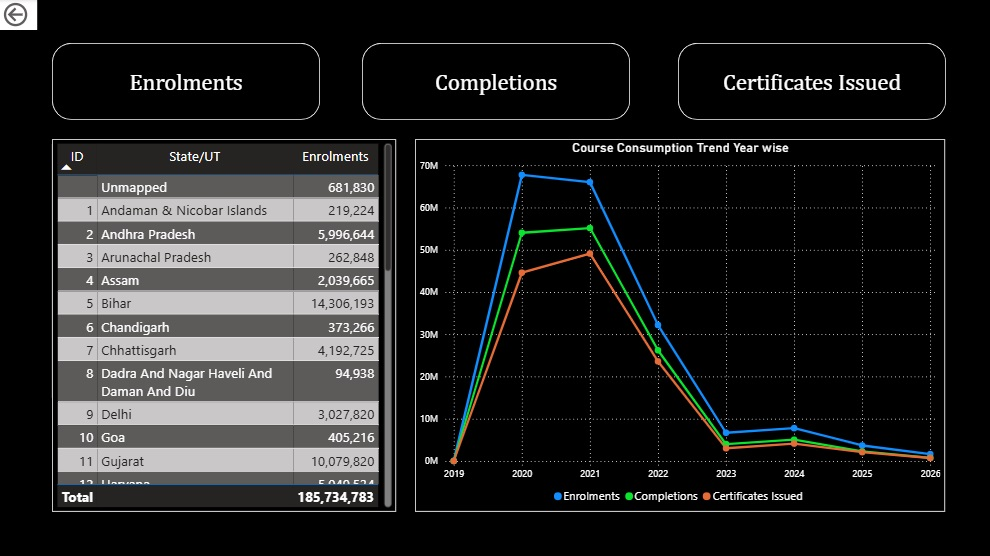

The dashboard page shown, as its layout file describes it:
{"tool":"powerbi","page":{"name":"Course Details","canvas":[1280,720],"ordinal":7},"visuals":[{"type":"lineChart","title":"Course Consumption Trend Year wise","fields":{"Category":["learning_trend.Year"],"Y":["Sum(learning_trend.Enrolments)","Sum(learning_trend.Completions)","Sum(learning_trend.Certificates Issued)"]},"box":[535.5,180.6,683.9,481.3],"z":0},{"type":"shape","box":[66.6,56.7,345.8,99.2],"z":2000},{"type":"shape","box":[467.7,56.7,345.8,99.2],"z":3000},{"type":"shape","box":[874.5,56.7,345.8,99.2],"z":4000},{"type":"tableEx","fields":{"Values":["state_usage_summary.ID","state_usage_summary.State/UT","Sum(state_usage_summary.Certificates Issued)"]},"box":[67,180.1,443.5,480.7],"z":6000},{"type":"actionButton","box":[0,0,47.6,40.2],"z":7000}]}

Visuals, with their boxes in screenshot pixels (x1, y1, x2, y2), scaled from the page's 1280x720 canvas onto the 990x556 screenshot:
"Course Consumption Trend Year wise" lineChart: bbox(414, 139, 943, 511)
shape: bbox(52, 44, 319, 120)
shape: bbox(362, 44, 629, 120)
shape: bbox(676, 44, 944, 120)
tableEx - state_usage_summary.ID x state_usage_summary.State/UT: bbox(52, 139, 395, 510)
actionButton: bbox(0, 0, 37, 31)
